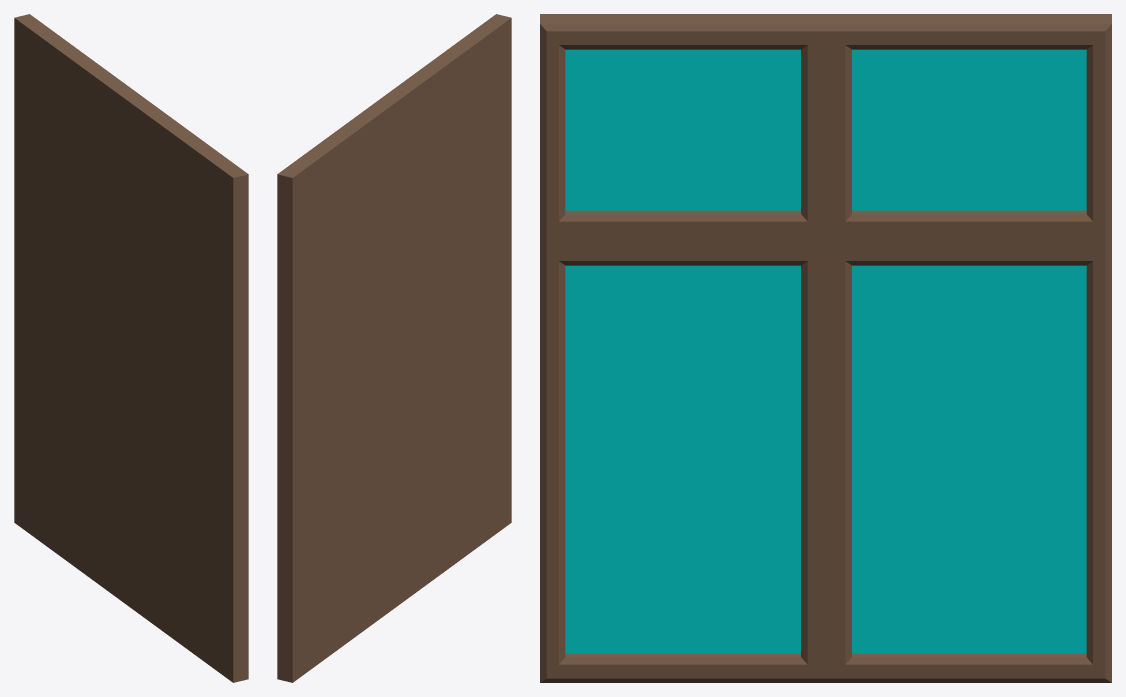
File: Ventana_04.fbx
3 views of the same model, side by side, from view 1: azimuth 30°, elevation 25°; view 2: azimuth 150°, elevation 25°; view 3: azimuth 270°, elevation 25° (orthographic). The views are drawn at different scales.
Parts seen in each view (by area): view 1: polySurface42; view 2: polySurface42; view 3: polySurface42.
Boxes of the visible parts, x1,y1,x2,y2 form: polySurface42: [14, 14, 248, 682]; polySurface42: [277, 14, 511, 682]; polySurface42: [540, 14, 1111, 682].
Bounding box in the file's own units: 9.42 × 255 × 201.
